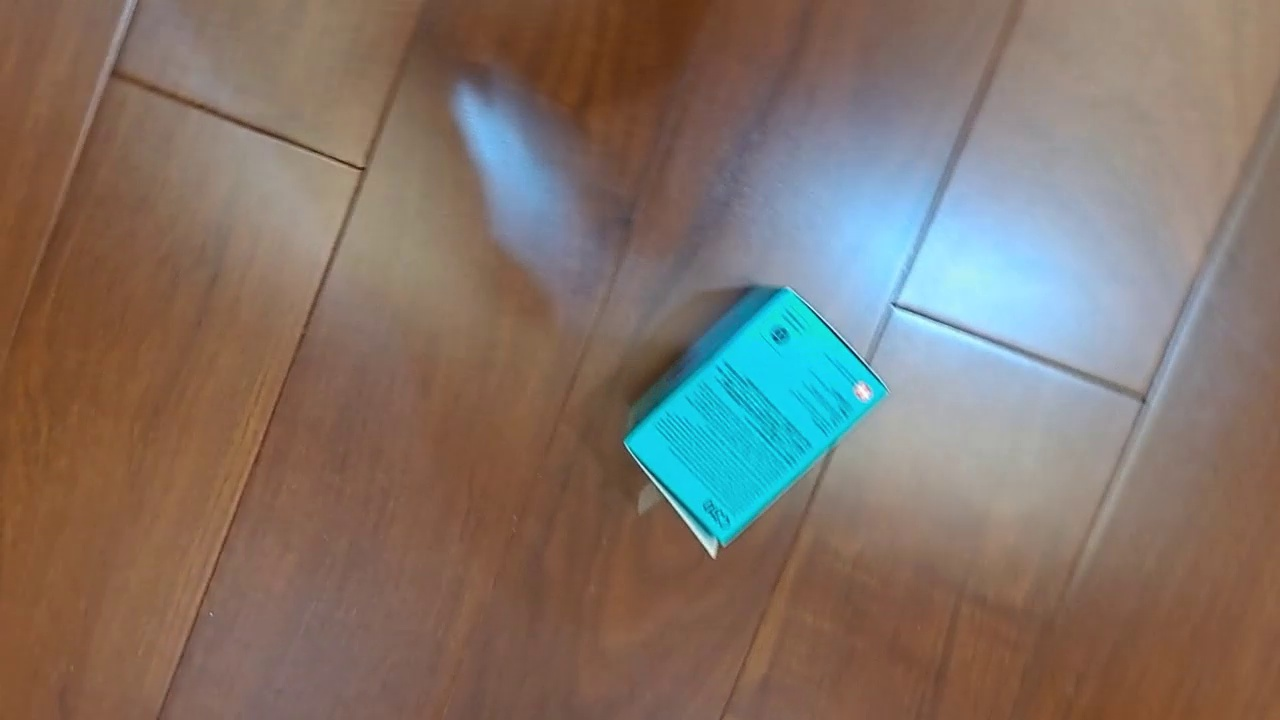webcam: (624, 284, 891, 562)
